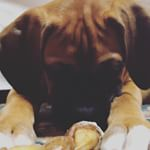puppy: (1, 5, 148, 148)
